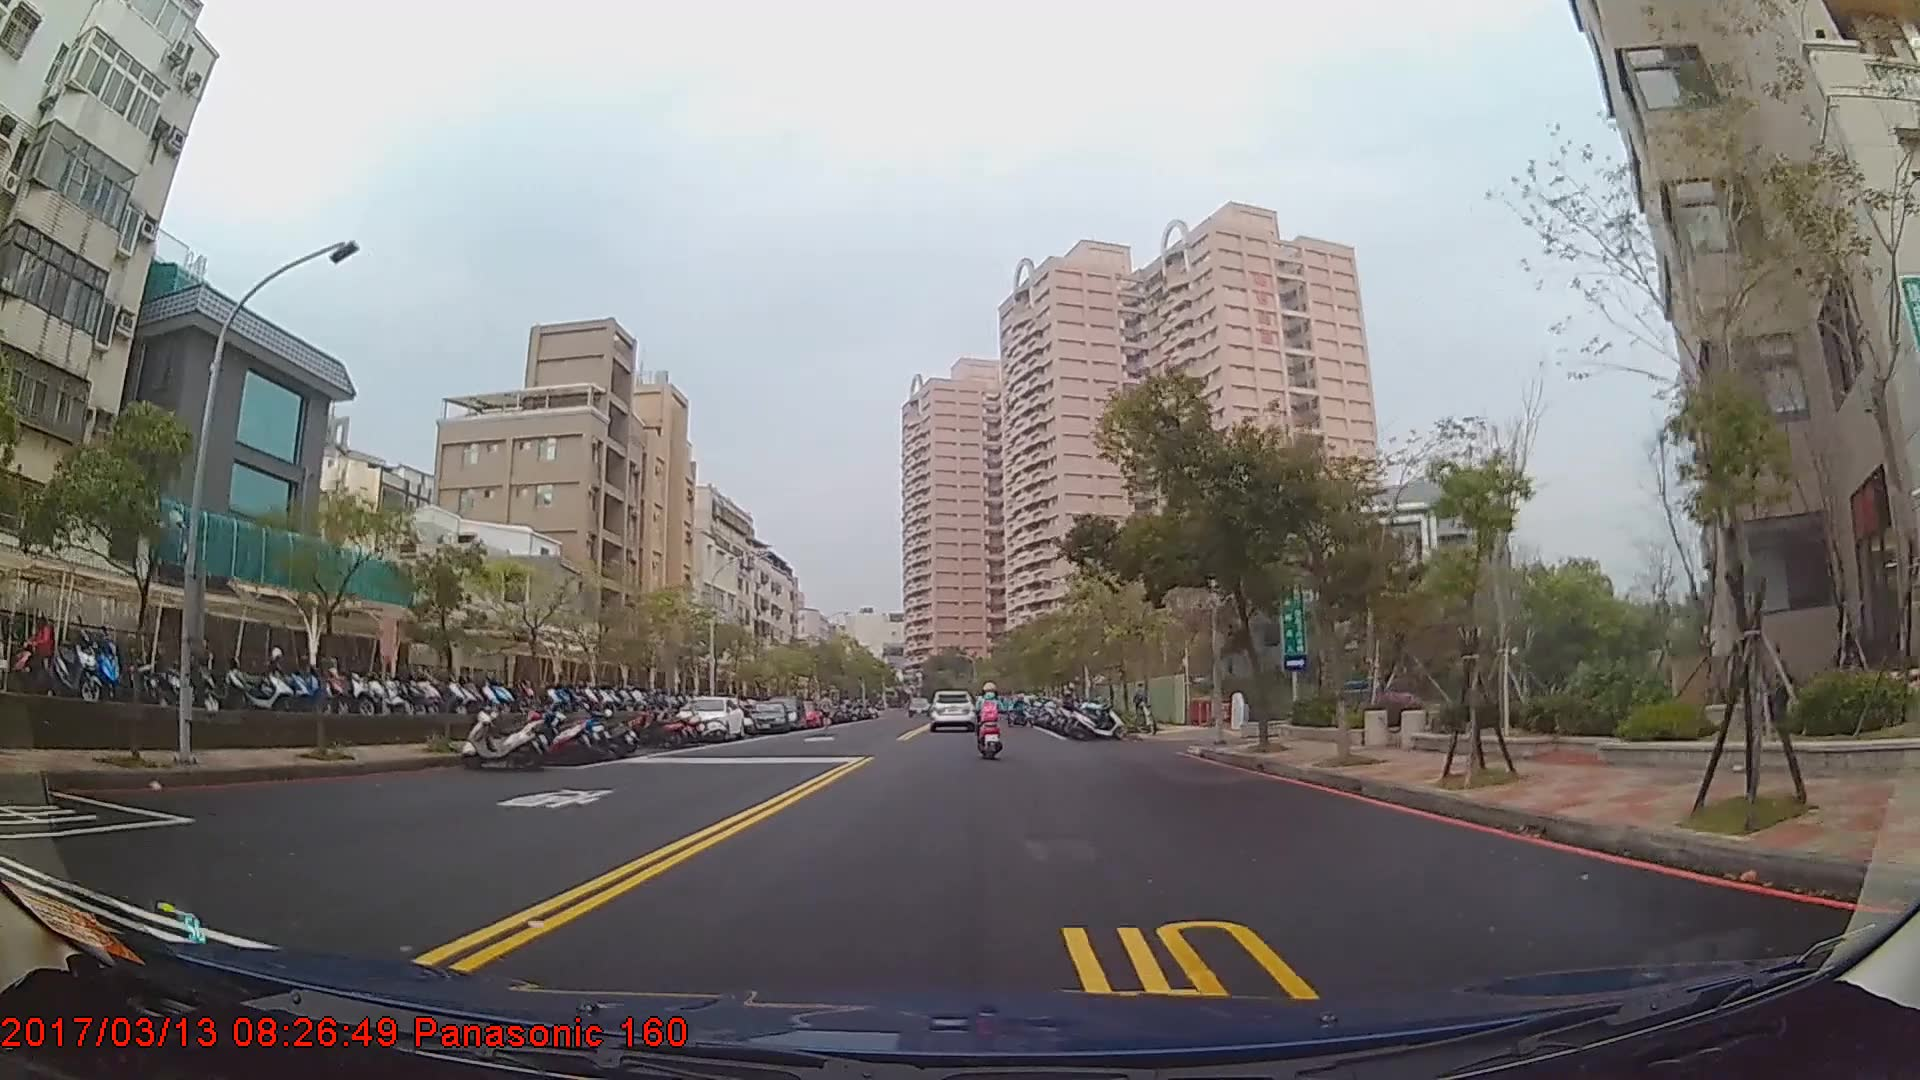pedestrian: (1133, 682, 1153, 728)
rider: (974, 681, 1005, 758)
vehicle: (674, 695, 744, 743), (926, 688, 976, 732), (742, 699, 792, 736)
